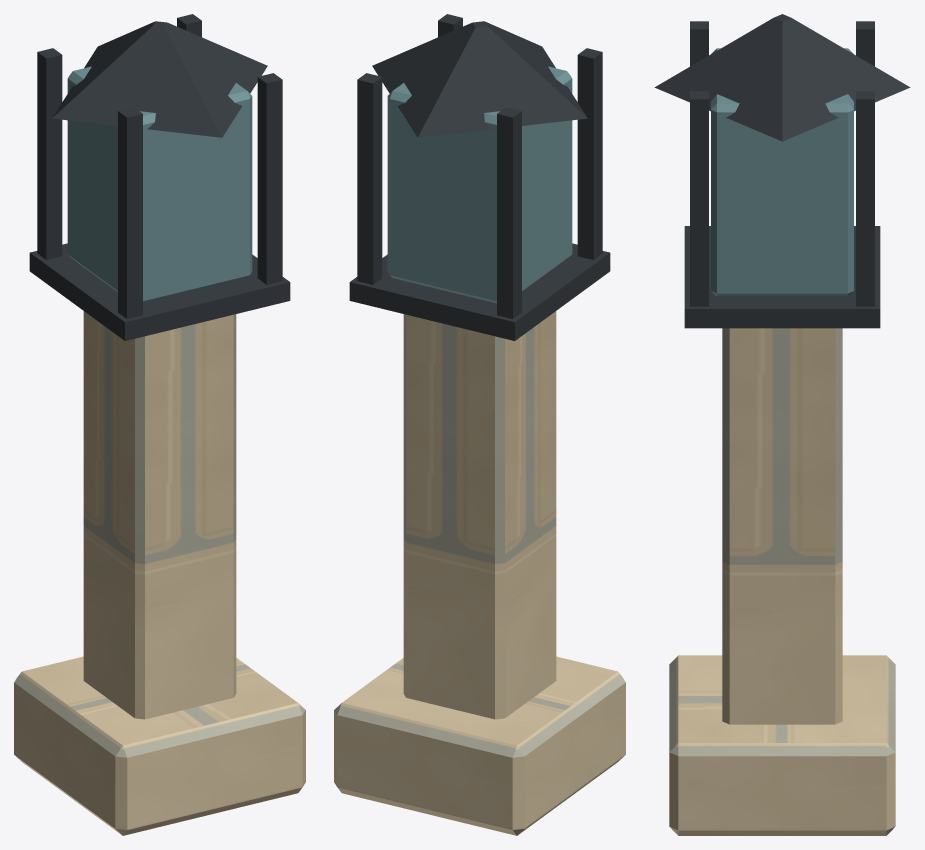
Rendered from Furn_Lamp_Garden.fbx.
3 renders of one model, left to right at view 1: azimuth 30°, elevation 25°; view 2: azimuth 150°, elevation 25°; view 3: azimuth 270°, elevation 25°, orthographic. The views are drawn at different scales.
Visible parts, largest first — view 1: Furn_Lamp_Garden_Mesh; view 2: Furn_Lamp_Garden_Mesh; view 3: Furn_Lamp_Garden_Mesh.
Part boxes in pixels (bbox=[...]): Furn_Lamp_Garden_Mesh: bbox=[14, 14, 305, 835]; Furn_Lamp_Garden_Mesh: bbox=[334, 14, 625, 835]; Furn_Lamp_Garden_Mesh: bbox=[654, 14, 910, 835].
Size of the model in its own units: 0.3 by 1 by 0.3.
3 materials, 1 textured.
